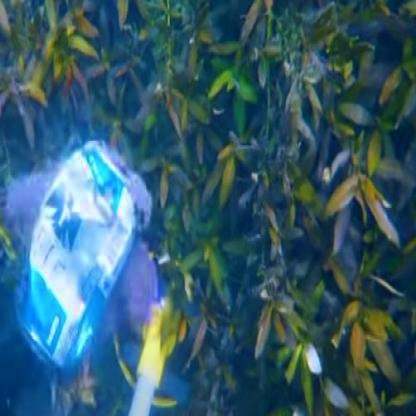can: (12, 148, 146, 371)
